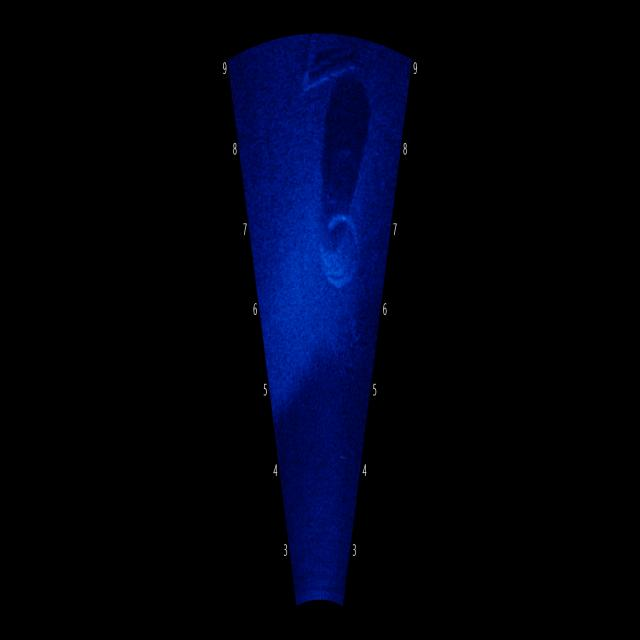circle: (314, 198, 374, 302)
